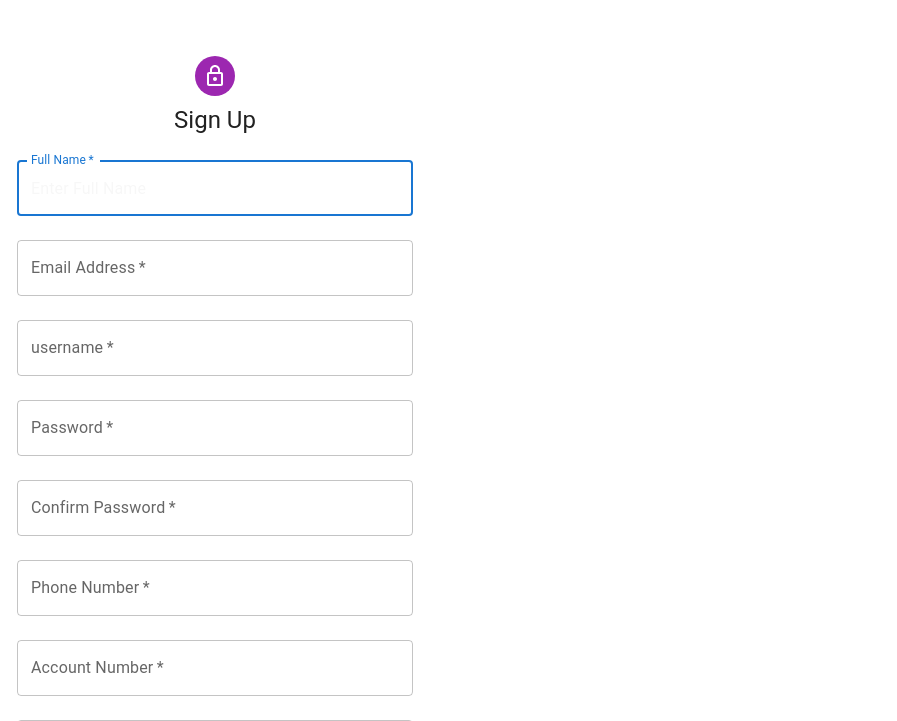
Scenario: SignUpPage component › displays error message on failed form submission with client side error
The width and height of the screenshot is (897, 721).
Type "John Doe" into the field with placeholder "Enter Full Name" at (215, 188), box [17, 160, 413, 216]
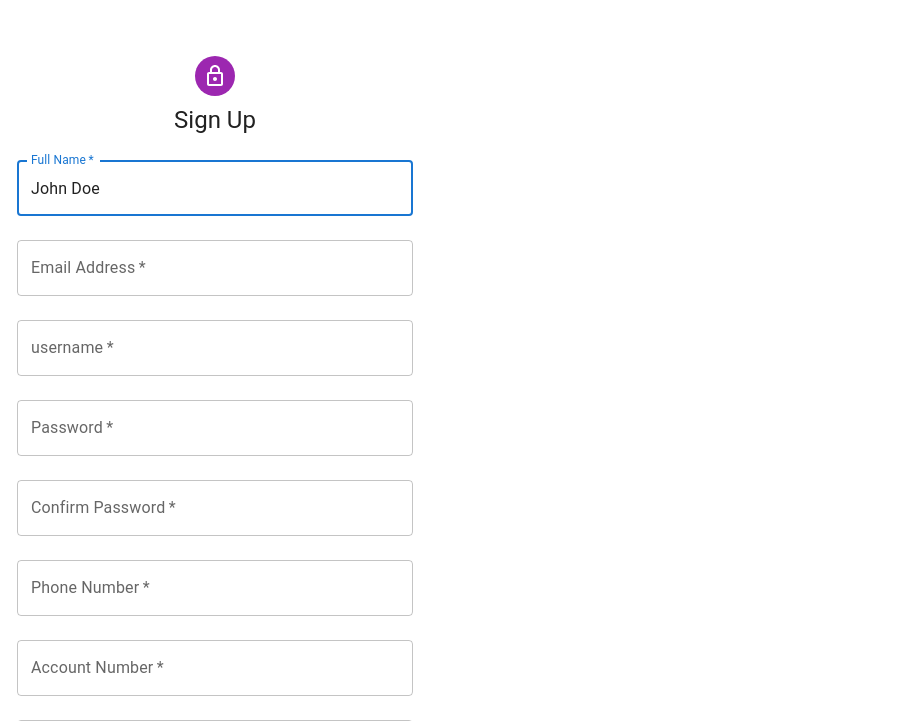
Type "devendra@nextuple.com" into the field with placeholder "Enter Email Address" at (215, 268), box [17, 240, 413, 296]
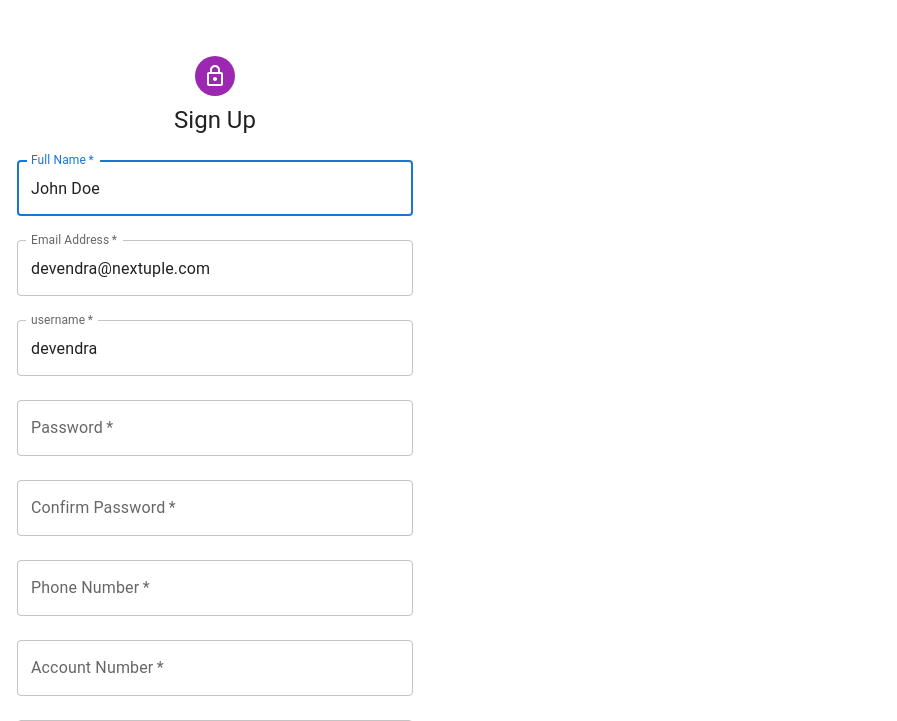
Replace the text in the field with placeholder "Enter Username" with "johndoe" at (215, 348), box [17, 320, 413, 376]
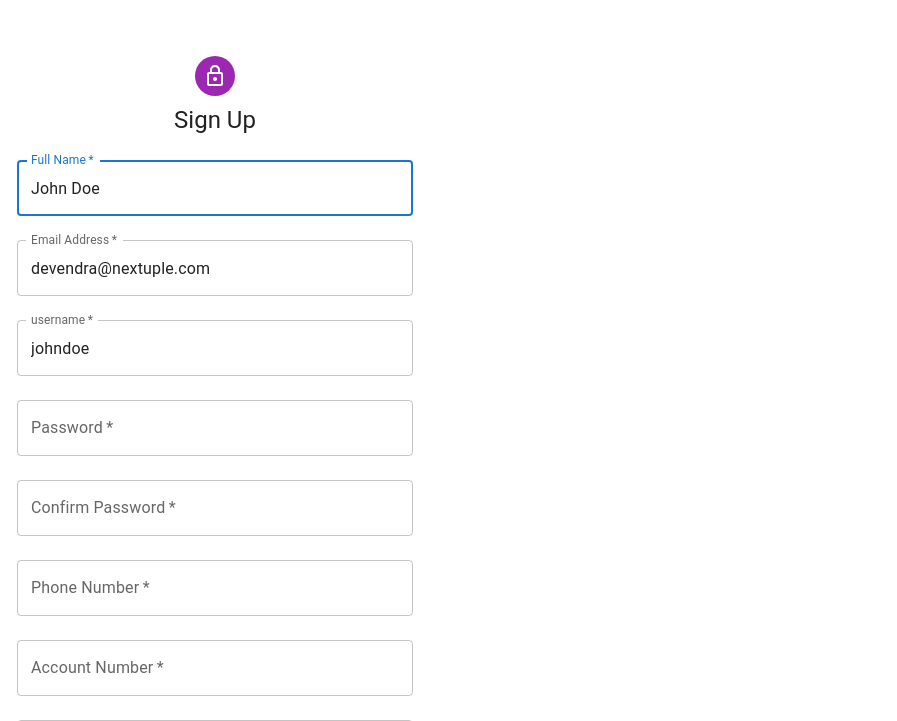
Type "Valid@12345" into the password field with placeholder "Enter Password" at (215, 428), box [17, 400, 413, 456]
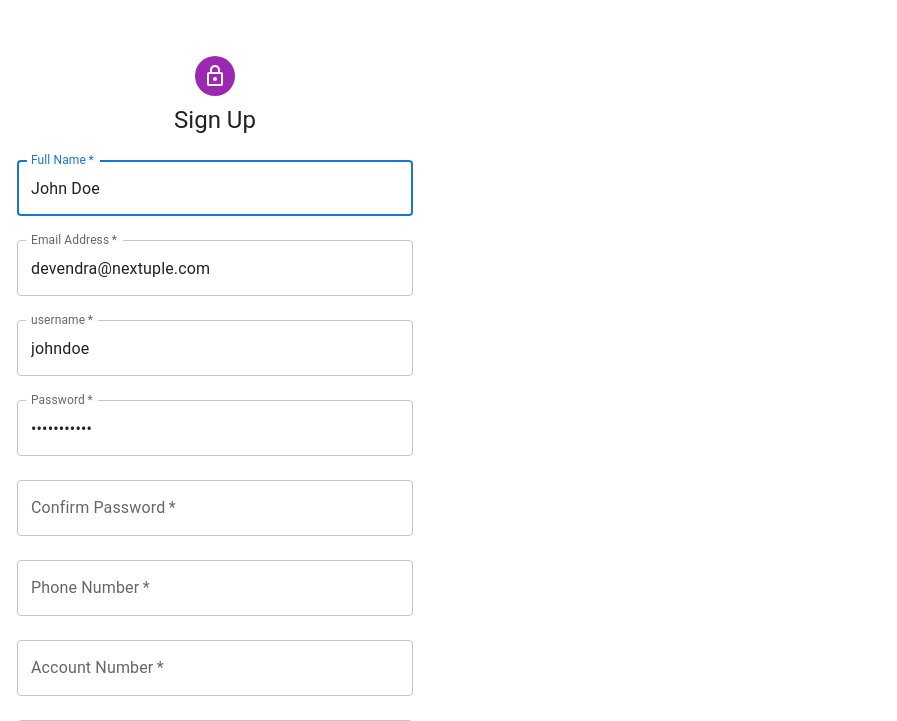
Type "Valid@12345" into the password field with placeholder "Confirm Password" at (215, 508), box [17, 480, 413, 536]
(page scrolled)
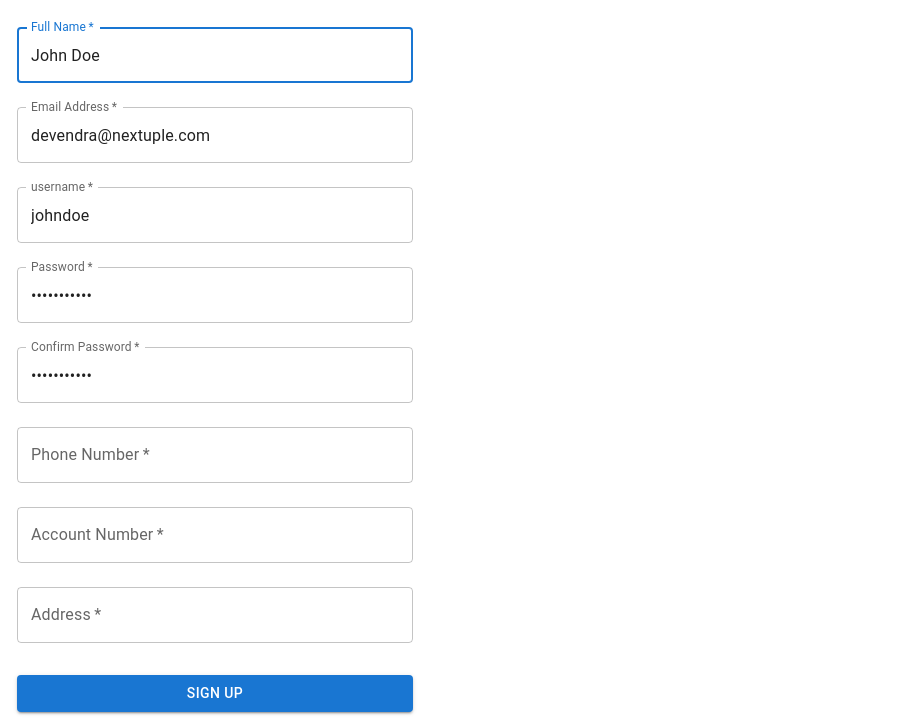
Click the button "Sign Up" at (215, 693), box [17, 675, 413, 712]
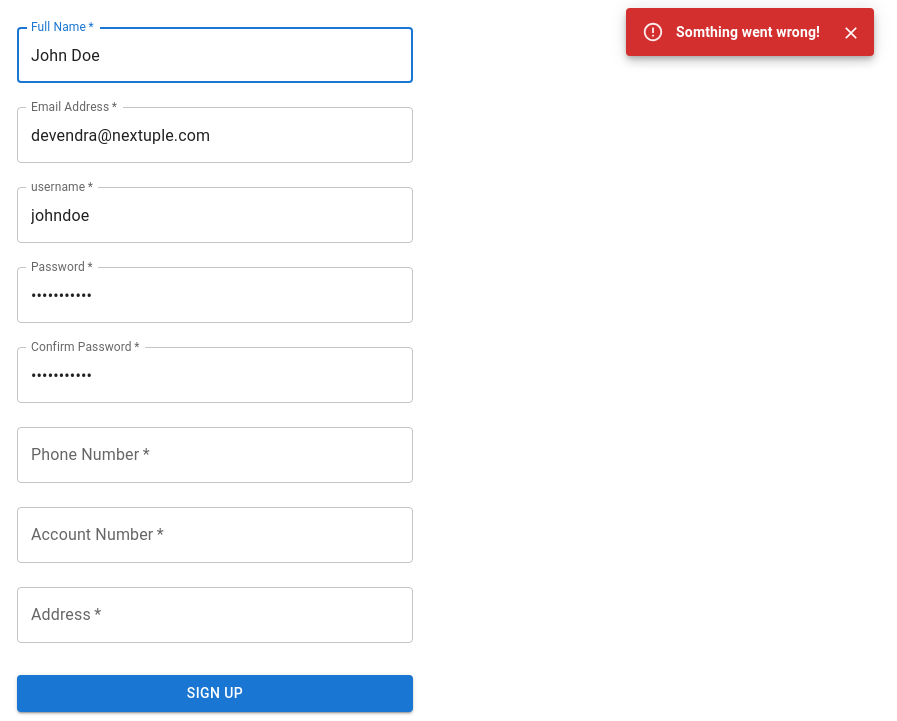
Expected: the text "Somthing went wrong!" is shown, [676, 24, 820, 40]
